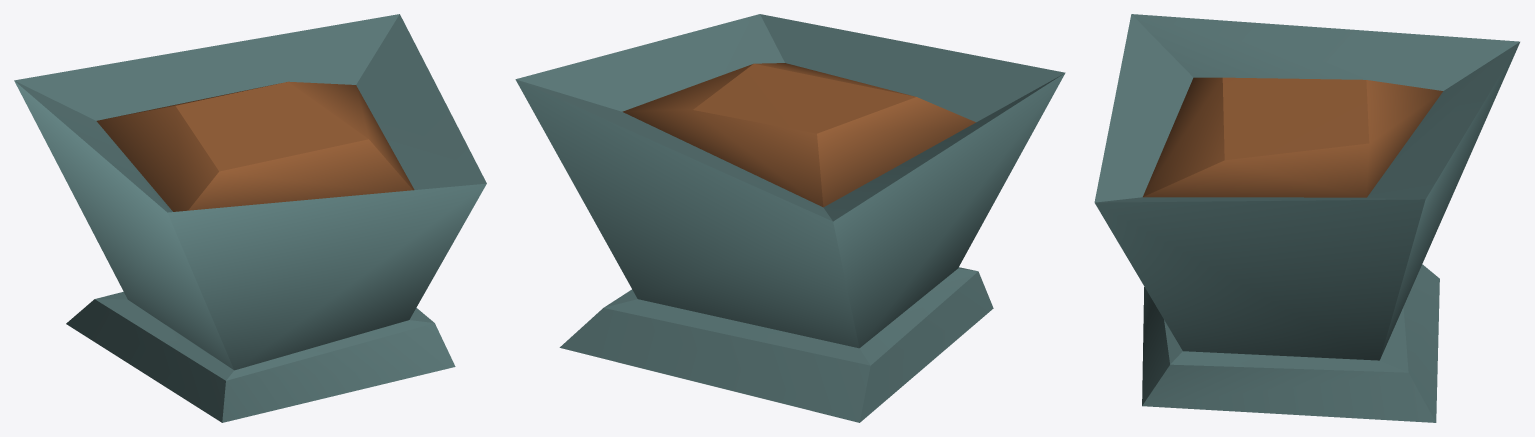
File: c_deco_vase_square_aa.fbx
3 renders of one model, left to right at view 1: azimuth 30°, elevation 25°; view 2: azimuth 150°, elevation 25°; view 3: azimuth 270°, elevation 25°, orthographic. The views are drawn at different scales.
Parts seen in each view (by area): view 1: c_deco_vase_square_aa; view 2: c_deco_vase_square_aa; view 3: c_deco_vase_square_aa.
Part boxes in pixels (box(x1,y1,x2,y2)): c_deco_vase_square_aa: box(14, 14, 486, 422); c_deco_vase_square_aa: box(515, 14, 1065, 422); c_deco_vase_square_aa: box(1094, 14, 1519, 422).
Bounding box in the file's own units: 0.5824 × 0.3516 × 0.5485.
